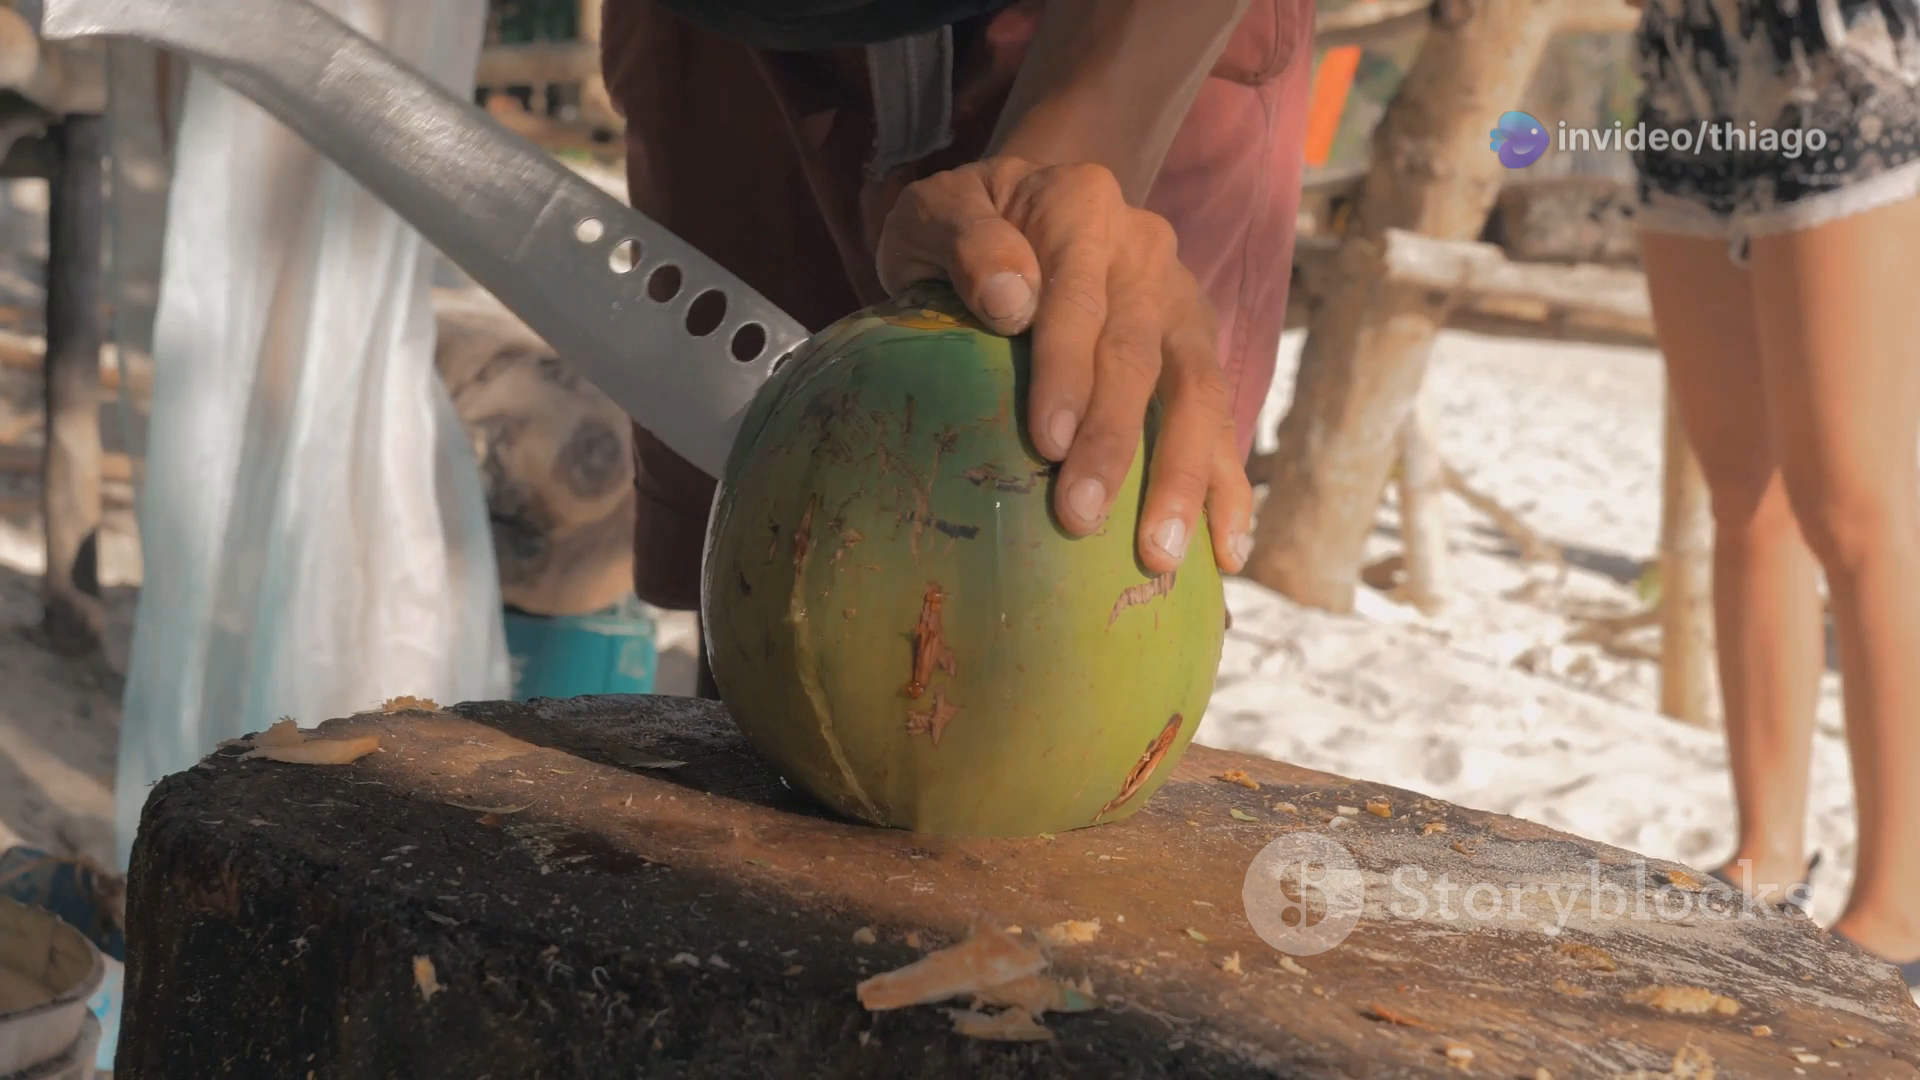cortante: (41, 0, 818, 483)
